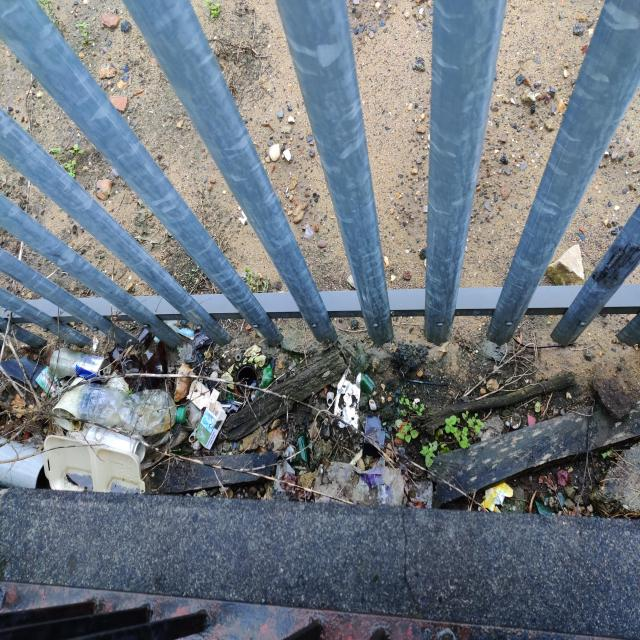litter: (38, 427, 149, 502), (72, 381, 189, 437), (45, 344, 114, 387), (195, 393, 229, 458), (174, 360, 194, 404)
